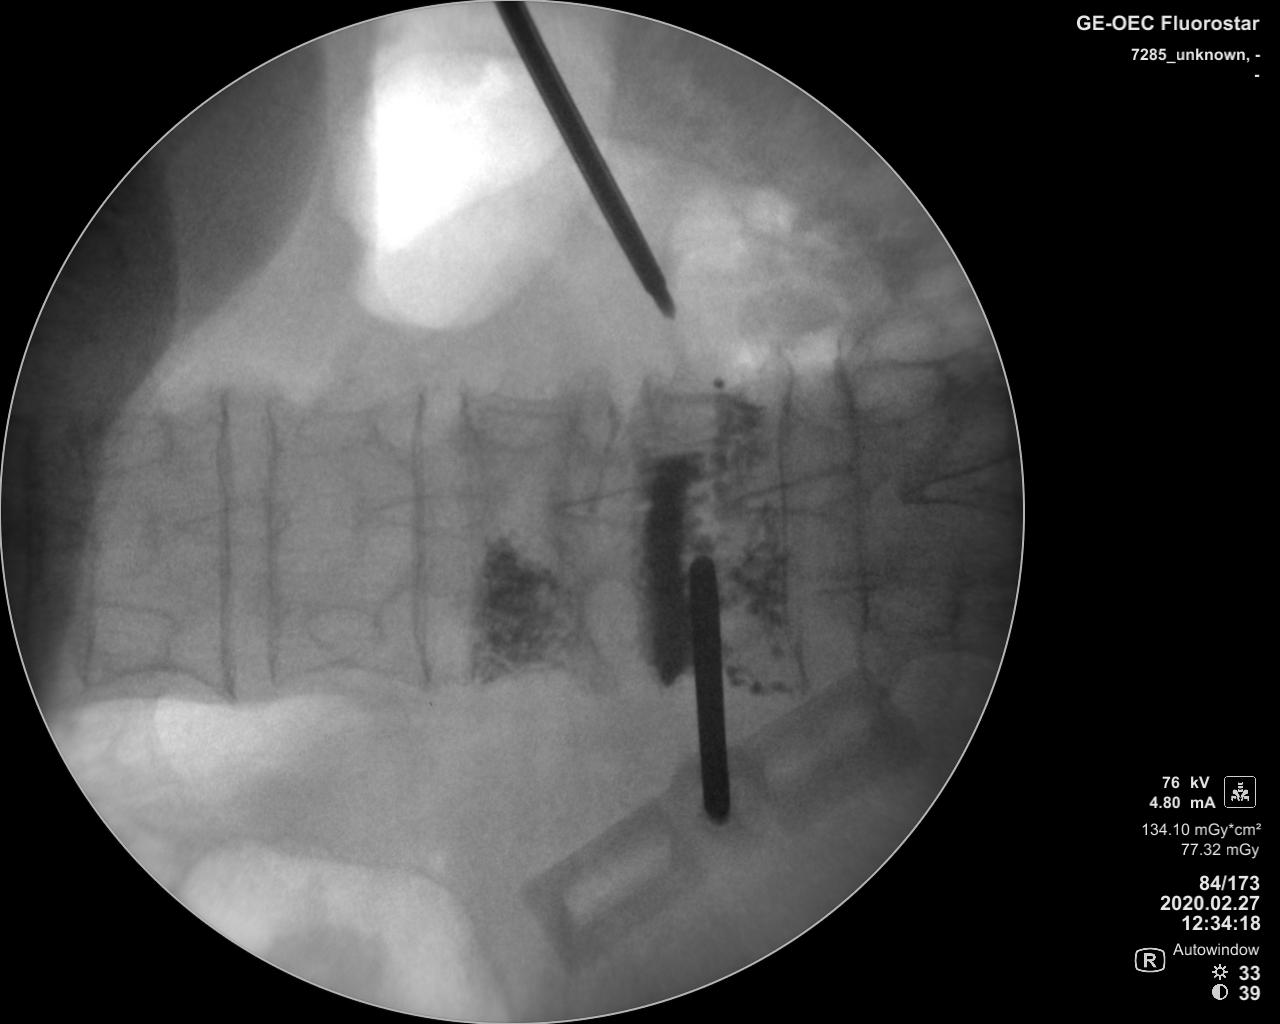eyes: (464, 385, 578, 453), (82, 601, 182, 670), (77, 409, 174, 478), (845, 356, 945, 423), (871, 577, 961, 646), (302, 604, 380, 658)
line: (772, 353, 815, 696), (830, 352, 872, 667), (209, 388, 240, 708), (405, 381, 437, 696), (66, 405, 98, 692), (257, 388, 283, 702)
nose: (897, 456, 1023, 521), (730, 465, 861, 518), (550, 487, 698, 527), (177, 502, 293, 549), (358, 493, 495, 531)
